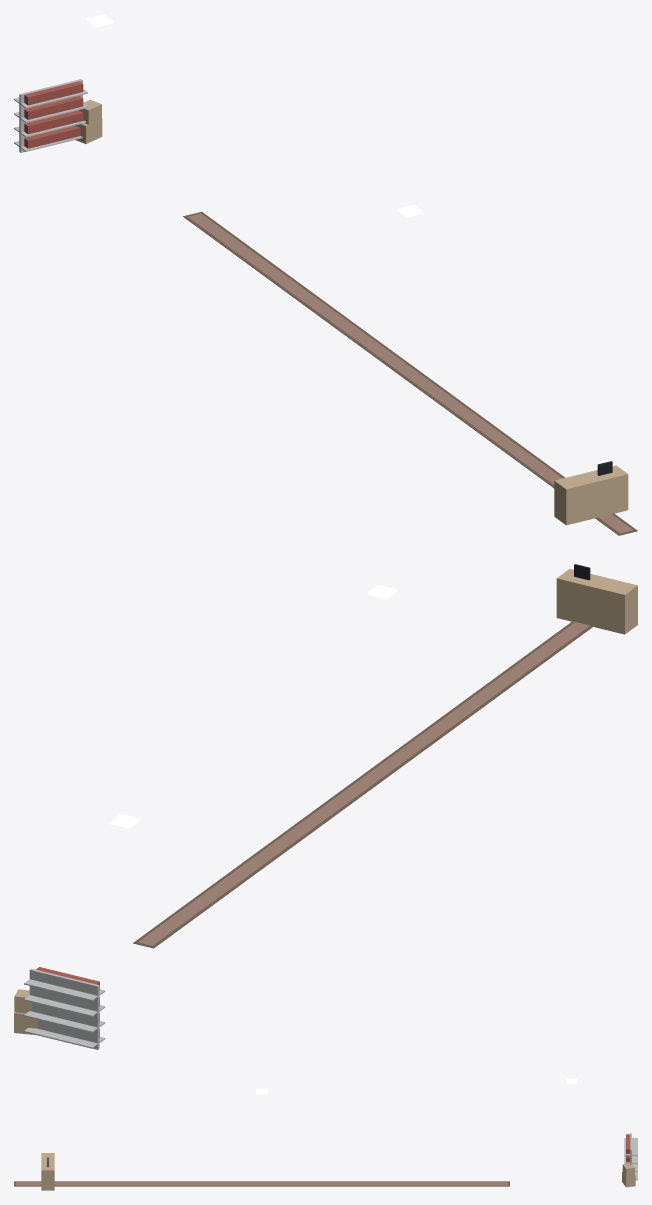
File: fine-s0.glb
3 renders of one model, top to bottom at view 1: azimuth 30°, elevation 25°; view 2: azimuth 150°, elevation 25°; view 3: azimuth 270°, elevation 25°, orthographic. The views are drawn at different scales.
Parts seen in each view (by area): view 1: soft-s0, shelving.000, shop-counter.000, cardboard-box.000; view 2: soft-s0, shelving.000, shop-counter.000, cardboard-box.000; view 3: soft-s0, shop-counter.000, shelving.000, cardboard-box.000.
Boxes of the visible parts, box(x1,y1,x2,y2) form: soft-s0: box(183, 211, 637, 535); shelving.000: box(14, 79, 87, 152); shop-counter.000: box(554, 461, 628, 525); cardboard-box.000: box(75, 99, 102, 143); soft-s0: box(133, 621, 593, 948); shelving.000: box(24, 967, 105, 1049); shop-counter.000: box(556, 564, 637, 634); cardboard-box.000: box(14, 989, 37, 1034); soft-s0: box(14, 1181, 509, 1186); shop-counter.000: box(41, 1153, 54, 1190); shelving.000: box(624, 1133, 637, 1180); cardboard-box.000: box(622, 1164, 635, 1187).
Size of the model in its own units: 2.6 by 4.53 by 27.53.
